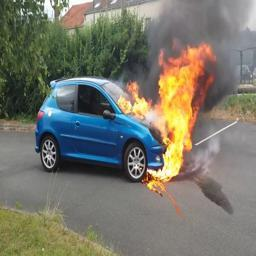fire: (119, 37, 217, 182)
